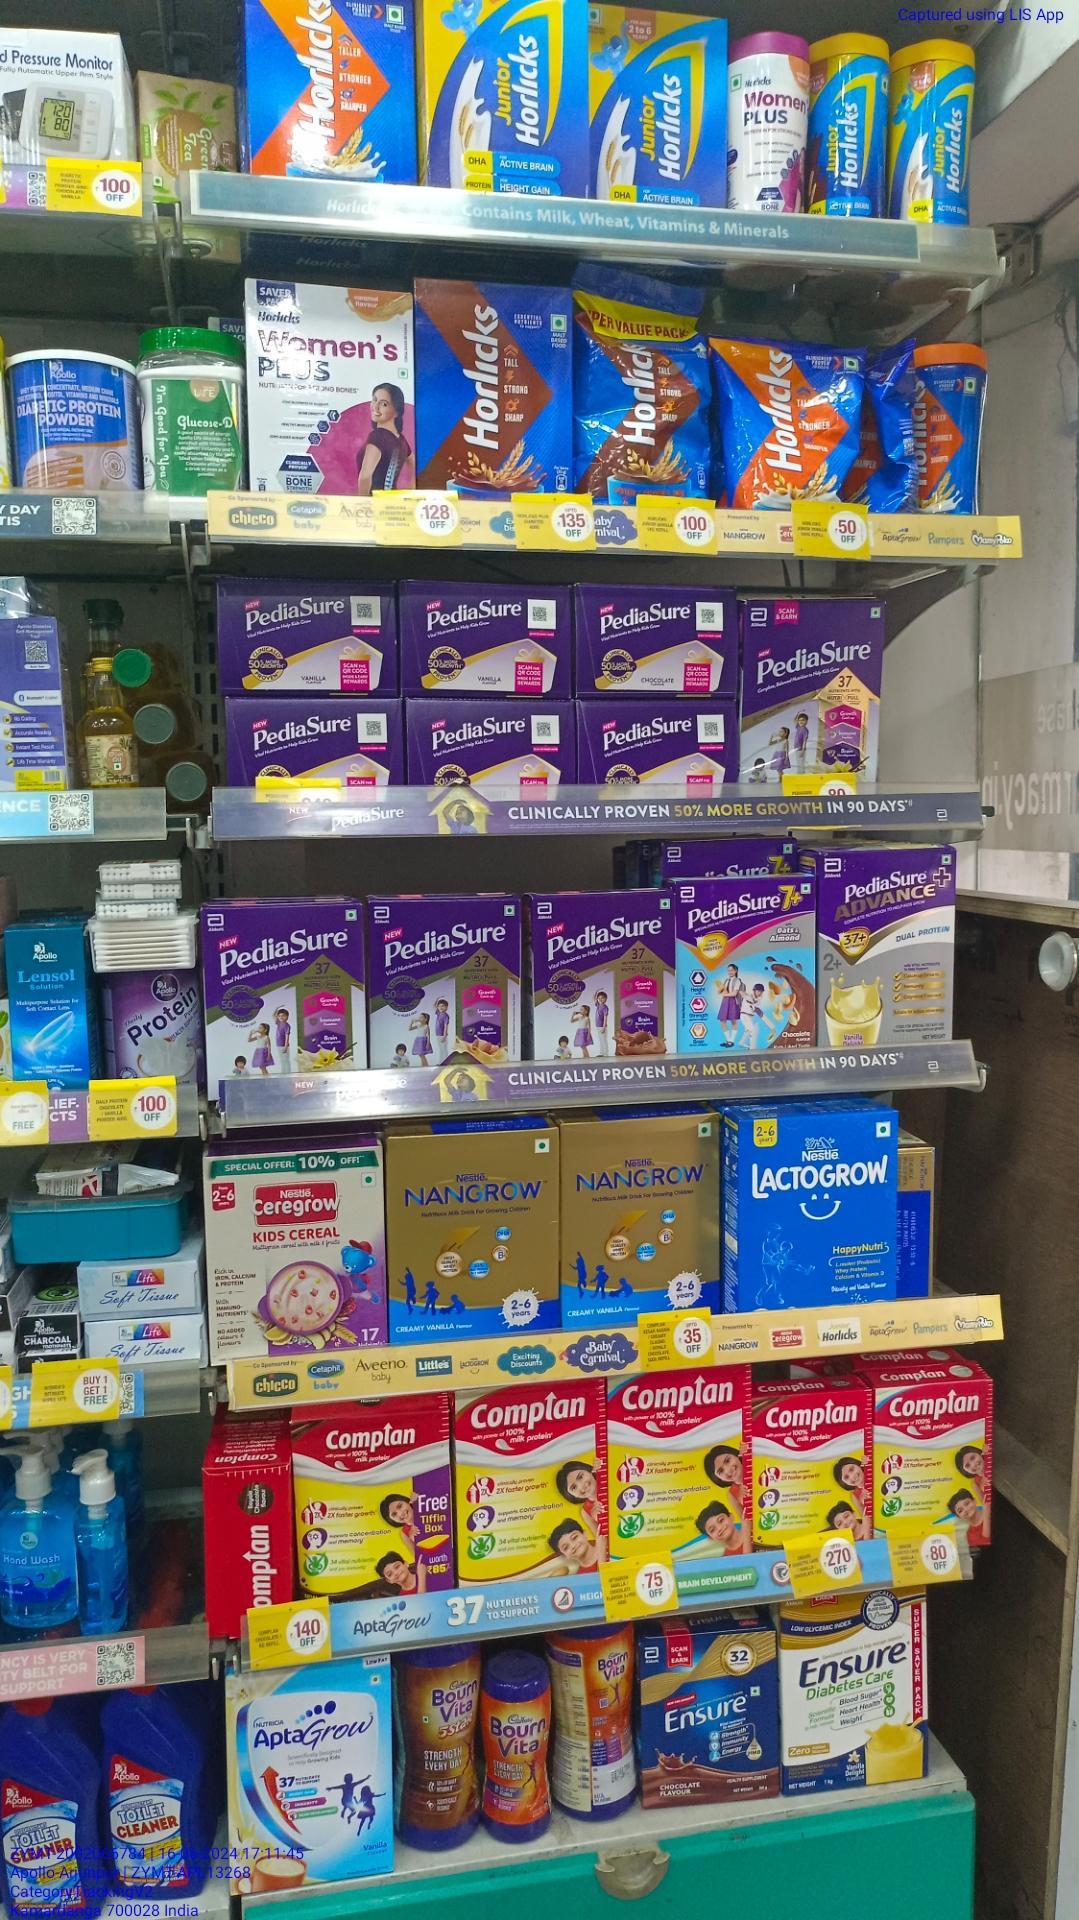BOURN_VITA_1_KG_JAR: (554, 1634, 634, 1826)
BOURN_VITA_500_G_JAR: (487, 1681, 551, 1838)
BOURN_VITA_FIVE_STAR_MAGIC_500_G_JAR: (401, 1651, 484, 1853)
COMPLAN_CHOCOLATE_500_GMS_JAR: (753, 1396, 873, 1534)
COMPLAN_CREAMY_CLASSIC_500_G_PACK: (875, 1387, 991, 1523)
COMPLAN_KESAR_BADAM_500_GMS_PACK: (456, 1393, 609, 1577)
HORLICK_CHOCOLATE_1_KG_PACK: (413, 278, 576, 495)
HORLICK_CHOCOLATE_750_G_POUCH: (580, 273, 718, 498)
HORLICK_CLASSIC_MALT_750_G_POUCH: (719, 336, 851, 504)
PEDIASURE_7_PLUS_CHOCOLATE_400_G_PACK: (675, 878, 815, 1046)
PEDIASURE_CHOCOLATE_500_G_PACK: (534, 895, 678, 1055)
PEDIASURE_VANILLA_500_G_PACK: (203, 909, 367, 1071), (744, 600, 882, 779), (369, 903, 520, 1064)
